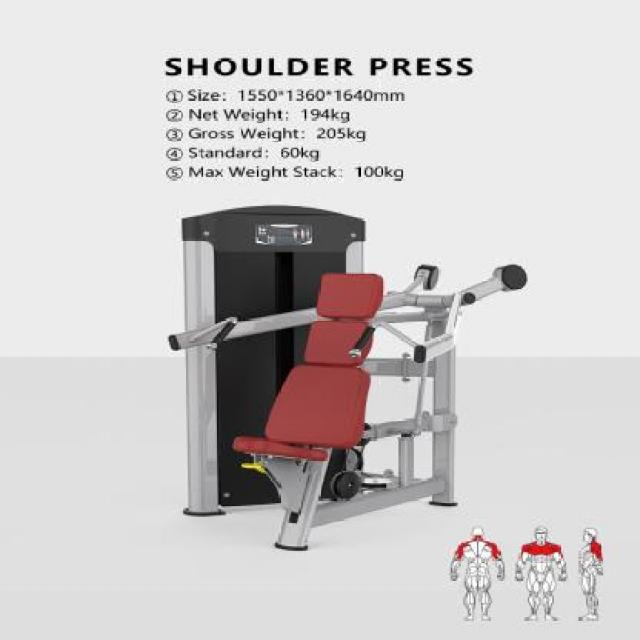shoulder press machine: (166, 202, 526, 550)
